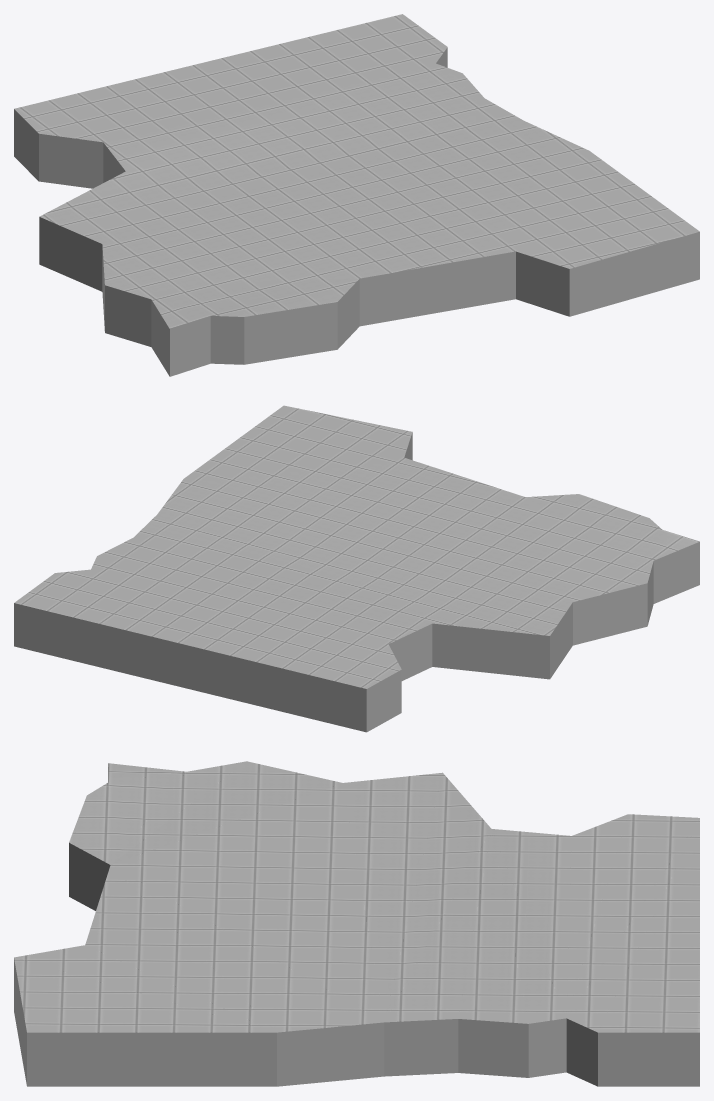
The model's file is Floor2.fbx.
3 views of the same model, one above another, from view 1: azimuth 30°, elevation 25°; view 2: azimuth 150°, elevation 25°; view 3: azimuth 270°, elevation 25° (orthographic). The views are drawn at different scales.
Visible parts, largest first — view 1: Floor2; view 2: Floor2; view 3: Floor2.
Part boxes in pixels (left/top/right/bottom): Floor2: left=14, top=14, right=699, bottom=376; Floor2: left=14, top=405, right=699, bottom=732; Floor2: left=14, top=761, right=699, bottom=1086.
Bounding box in the file's own units: 1201 × 118 × 1266.
